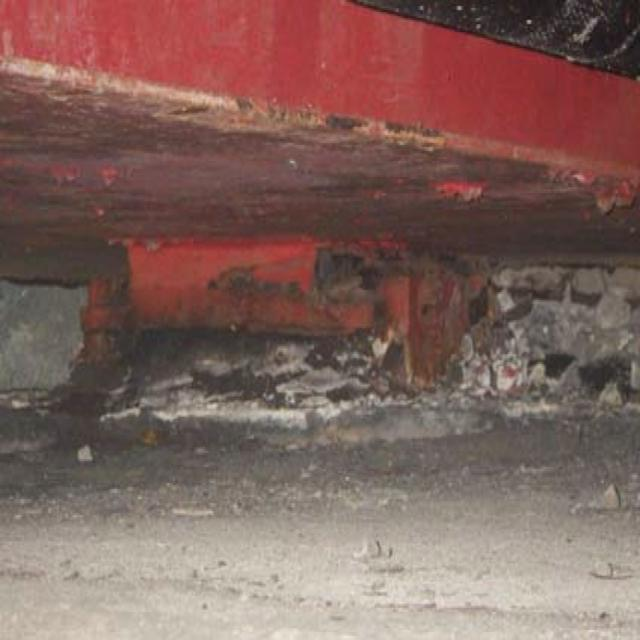corrosion: (94, 223, 494, 431)
